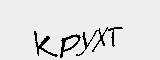К: (33, 33, 57, 57)
Р: (58, 32, 79, 60)
Т: (106, 25, 125, 49)
У: (74, 27, 98, 60)
Х: (90, 25, 108, 60)
